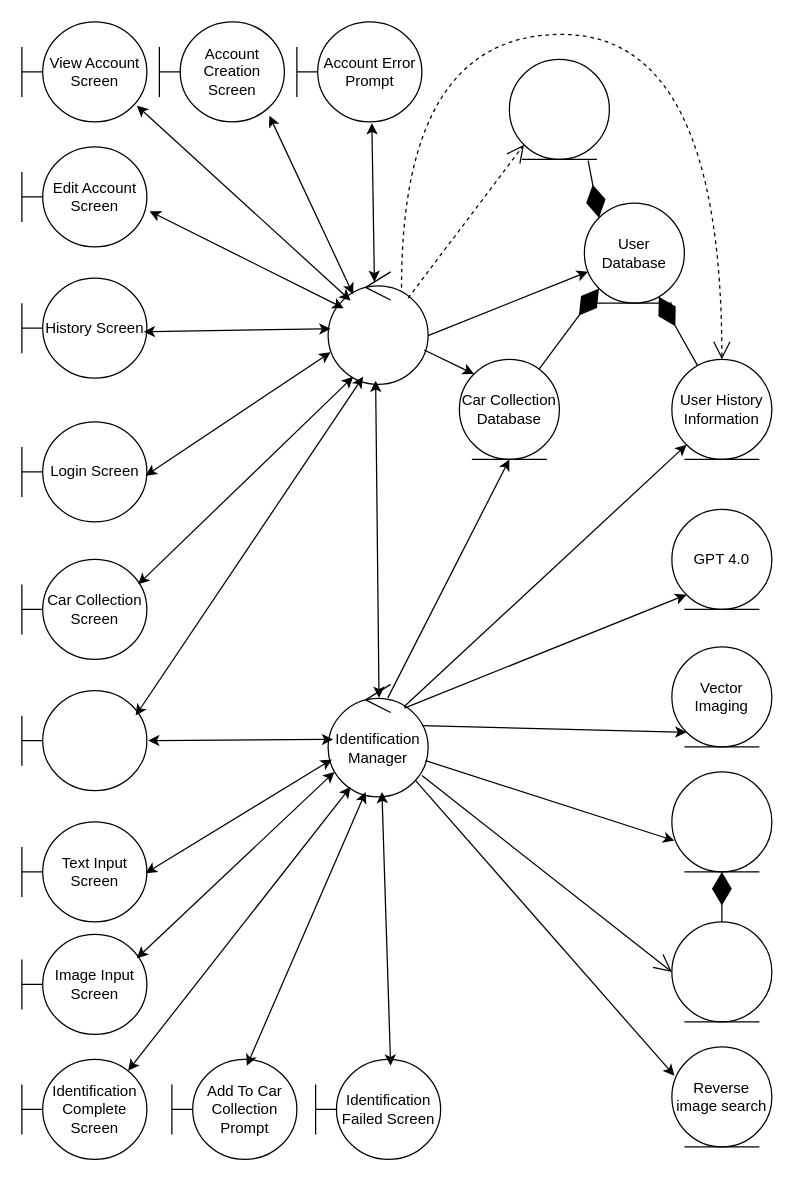
Image size: 794x1181. Some labels were removed from this diagram. Each missing label, with the centre of its shape:
Customer Support/FAQ Screen: (84,740)
G8m: (721,821)
G8m Data: (721,971)
User Information: (558,108)
User Information Manager: (377,327)
